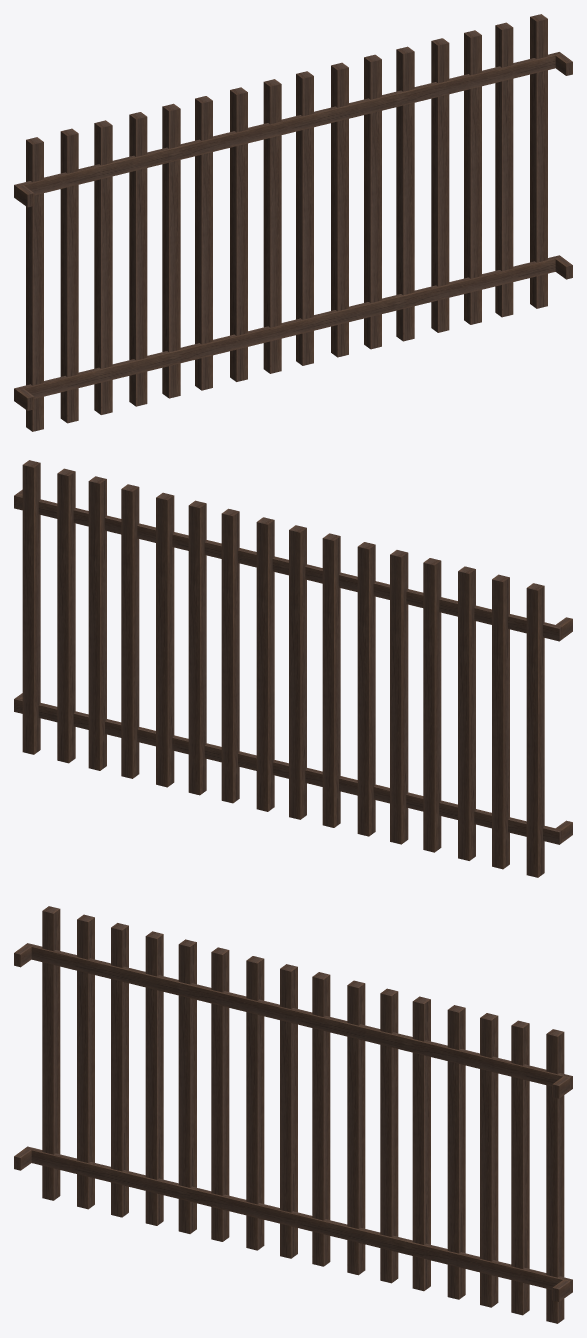
Rendered from kousi03.fbx.
3 renders of one model, top to bottom at view 1: azimuth 30°, elevation 25°; view 2: azimuth 150°, elevation 25°; view 3: azimuth 330°, elevation 25°, orthographic.
Parts seen in each view (by area): view 1: kousi03; view 2: kousi03; view 3: kousi03.
Part boxes in pixels (x1,y1,x2,y2): kousi03: (14, 14, 572, 431); kousi03: (14, 460, 572, 877); kousi03: (14, 906, 572, 1323).
Size of the model in its own units: 259 by 131 by 15.13.
